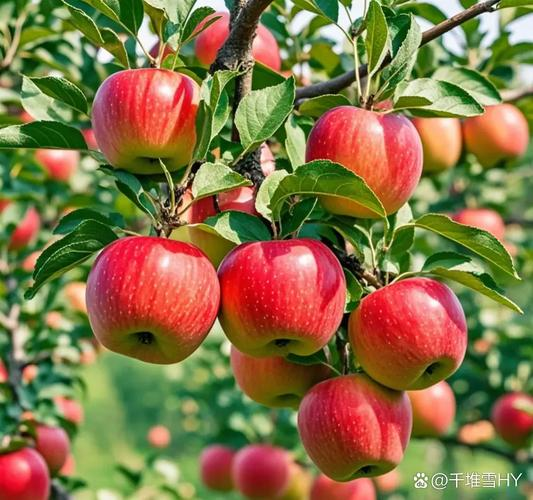ripe: (84, 228, 218, 366), (221, 236, 355, 364), (348, 268, 476, 395), (296, 94, 420, 219), (295, 378, 420, 482), (91, 65, 208, 176), (228, 327, 330, 416), (184, 5, 283, 92), (407, 106, 468, 184), (467, 102, 531, 167)
